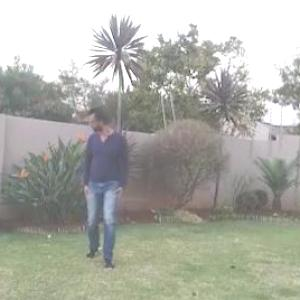follow: (77, 101, 132, 272)
